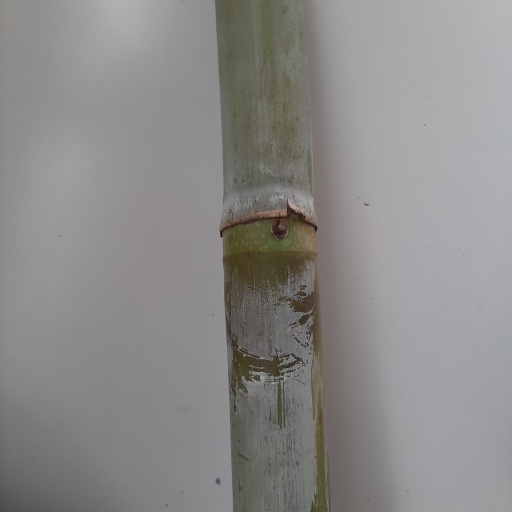Bud: (272, 218, 291, 240)
